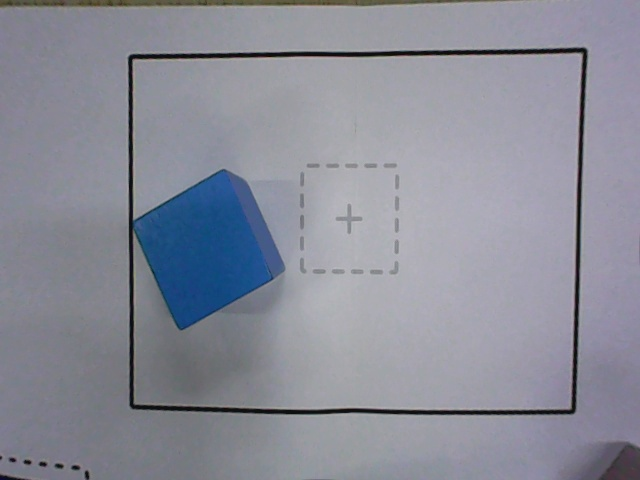upside of big cube: (130, 171, 274, 333)
